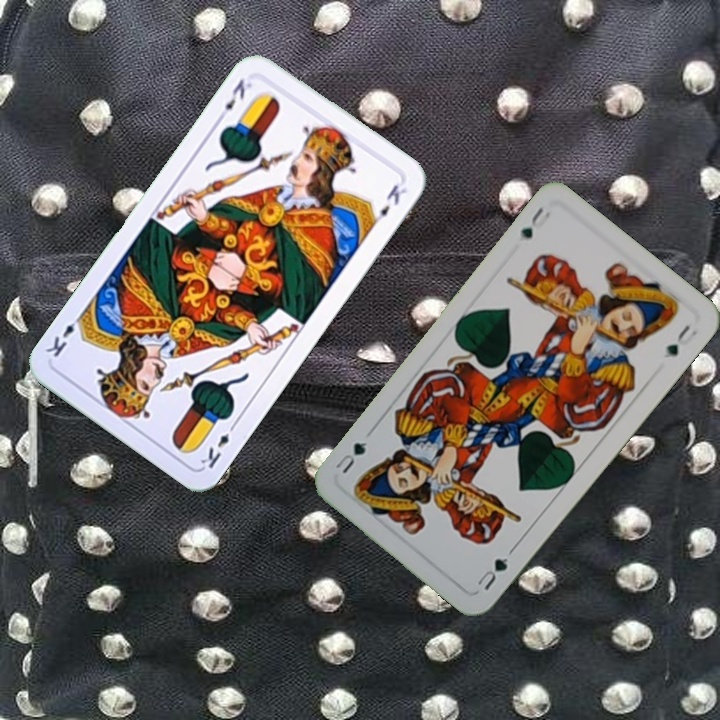EK: (196, 418, 240, 472), (213, 74, 255, 124)
GU: (473, 553, 511, 593), (515, 203, 553, 242)
